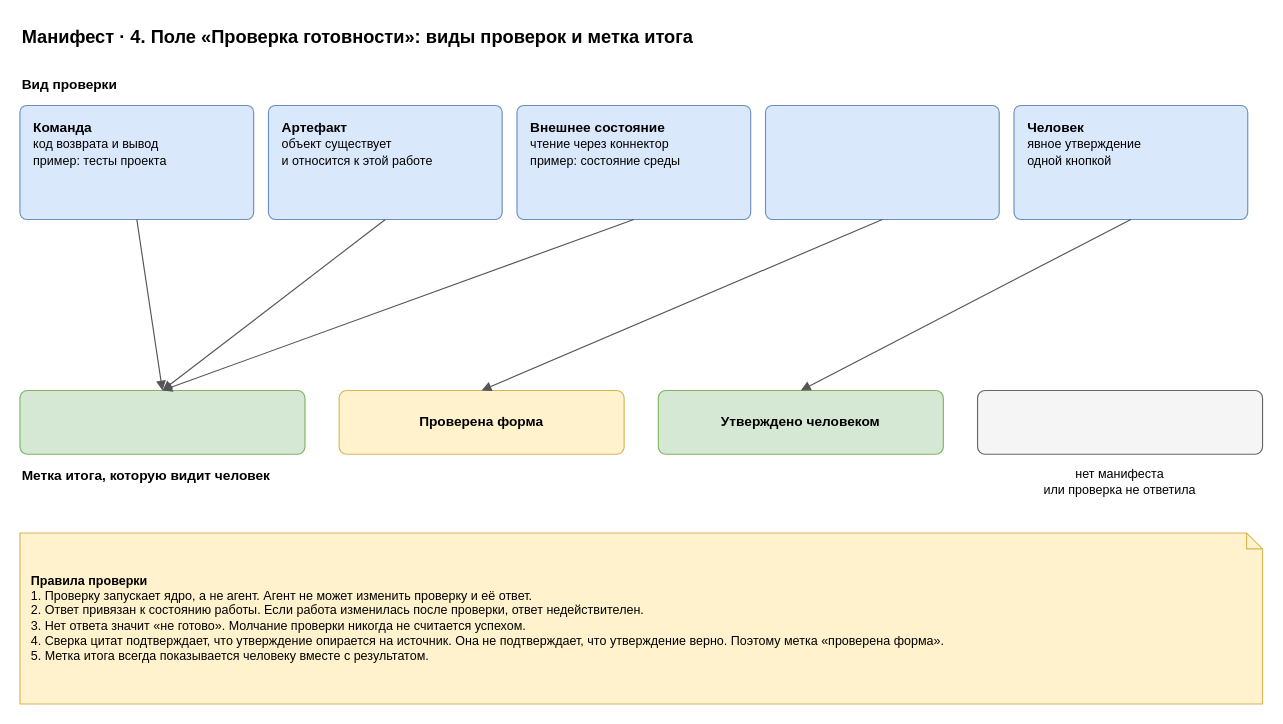
Some shapes in this 1283 by 724 pixel diagram are drawn without their labels. Each missing label, with the centre of its shape:
Не проверено: (1119,421)
Проверен результат: (162,421)
Сверка цитат каждое утверждение подтверждено источником: (881,161)
